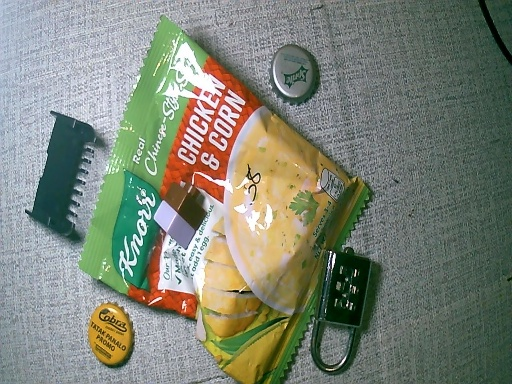metal: (307, 249, 376, 374), (268, 43, 321, 105), (87, 303, 135, 368)
plastic: (78, 18, 368, 302), (145, 303, 309, 384)
trash: (23, 107, 99, 239), (154, 182, 202, 252)
